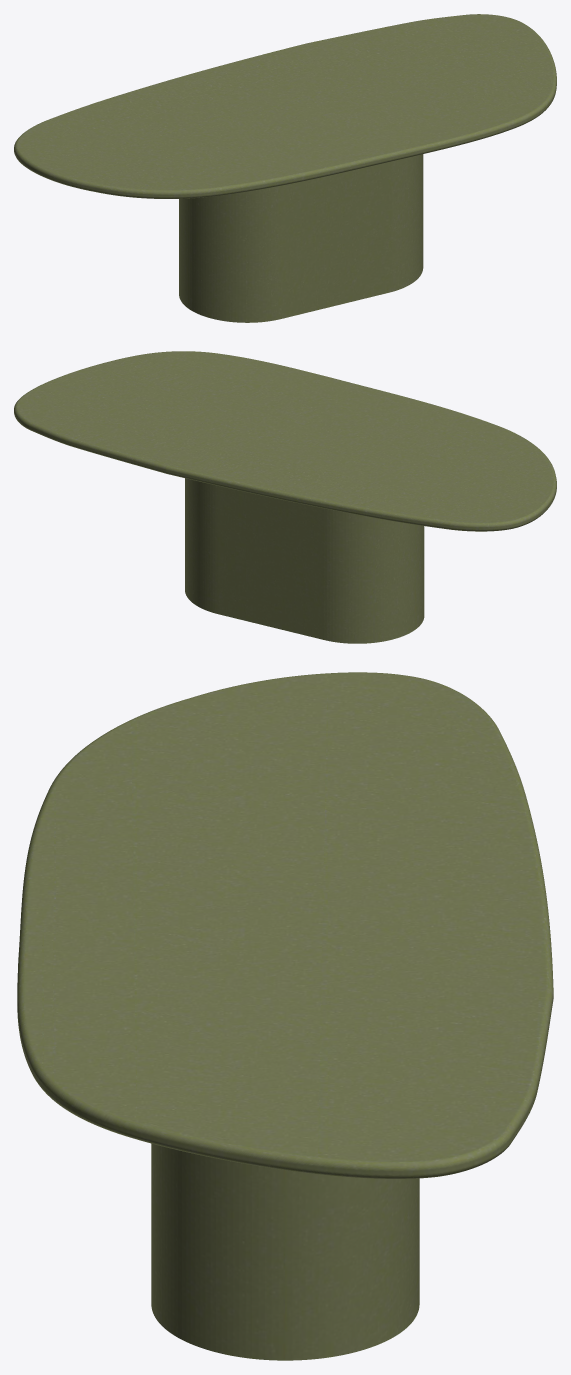
File: table_vert.glb
3 views of the same model, one above another, from view 1: azimuth 30°, elevation 25°; view 2: azimuth 150°, elevation 25°; view 3: azimuth 270°, elevation 25° (orthographic). The views are drawn at different scales.
Visible parts, largest first — view 1: Vulkan - 240x110_Inverse╠üe_Pied Bernard; view 2: Vulkan - 240x110_Inverse╠üe_Pied Bernard; view 3: Vulkan - 240x110_Inverse╠üe_Pied Bernard.
Boxes of the visible parts, x1,y1,x2,y2 form: Vulkan - 240x110_Inverse╠üe_Pied Bernard: [14, 14, 556, 322]; Vulkan - 240x110_Inverse╠üe_Pied Bernard: [14, 351, 556, 643]; Vulkan - 240x110_Inverse╠üe_Pied Bernard: [17, 672, 553, 1360].
Size of the model in its own units: 2.4 by 0.758 by 1.1.
Materials: 1 (1 with a texture image).
